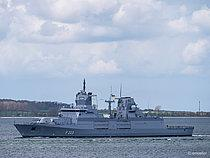MIL_Ship: (12, 87, 197, 139)
